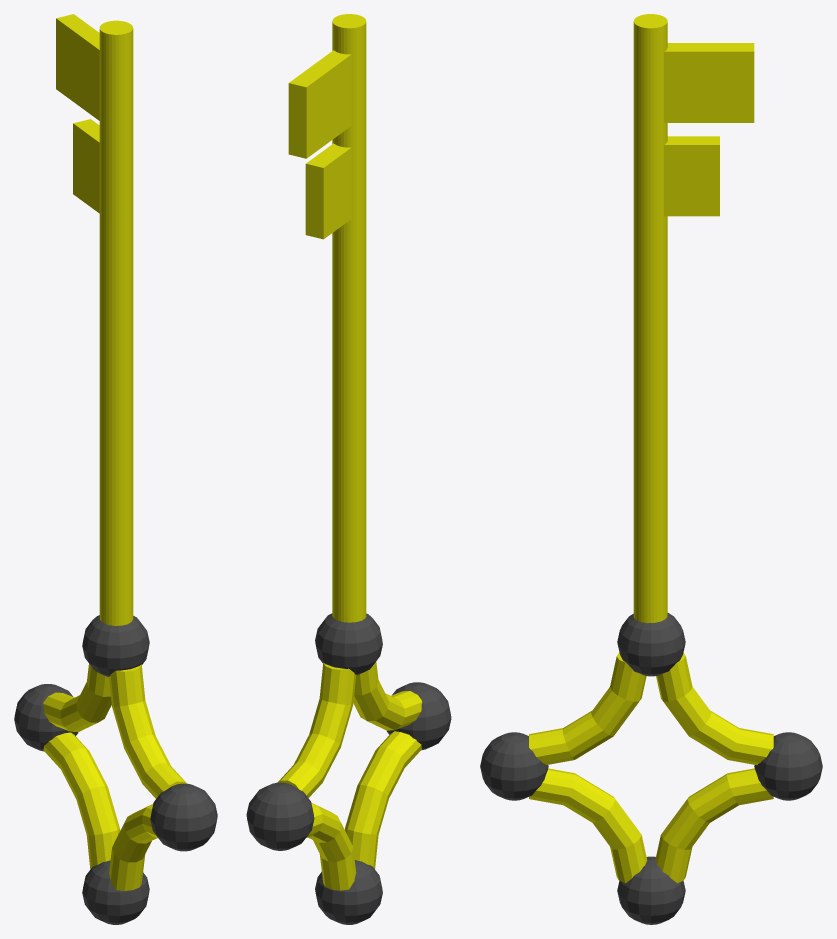
Rendered from key.fbx.
The picture shows the model from 3 angles, left to right: view 1: azimuth 30°, elevation 25°; view 2: azimuth 150°, elevation 25°; view 3: azimuth 270°, elevation 25°; orthographic projection.
Visible parts, largest first — view 1: Cylinder, Torus, Cube, Sphere.001, Sphere, Sphere.002, Cube.001, Sphere.003; view 2: Cylinder, Torus, Cube, Cube.001, Sphere.003, Sphere, Sphere.002, Sphere.001; view 3: Cylinder, Torus, Cube, Cube.001, Sphere.003, Sphere.001, Sphere, Sphere.002.
Part boxes in pixels (left/top/right/bottom): Cylinder: left=99, top=20, right=133, bottom=625; Torus: left=43, top=664, right=186, bottom=890; Cube: left=56, top=14, right=99, bottom=120; Sphere.001: left=150, top=783, right=217, bottom=851; Sphere: left=82, top=615, right=149, bottom=677; Sphere.002: left=82, top=860, right=149, bottom=924; Cube.001: left=73, top=119, right=99, bottom=213; Sphere.003: left=14, top=684, right=78, bottom=751; Cylinder: left=332, top=14, right=366, bottom=622; Torus: left=277, top=662, right=422, bottom=890; Cube: left=288, top=50, right=351, bottom=158; Cube.001: left=305, top=143, right=351, bottom=239; Sphere.003: left=246, top=782, right=314, bottom=850; Sphere: left=315, top=613, right=382, bottom=675; Sphere.002: left=315, top=860, right=382, bottom=924; Sphere.001: left=387, top=682, right=451, bottom=750; Cylinder: left=633, top=14, right=667, bottom=623; Torus: left=529, top=652, right=773, bottom=883; Cube: left=664, top=43, right=754, bottom=122; Cube.001: left=664, top=136, right=719, bottom=216; Sphere.003: left=754, top=732, right=822, bottom=800; Sphere.001: left=480, top=732, right=548, bottom=800; Sphere: left=617, top=613, right=685, bottom=676; Sphere.002: left=617, top=856, right=685, bottom=924.
Size of the model in its own units: 200 by 2899 by 1000.
